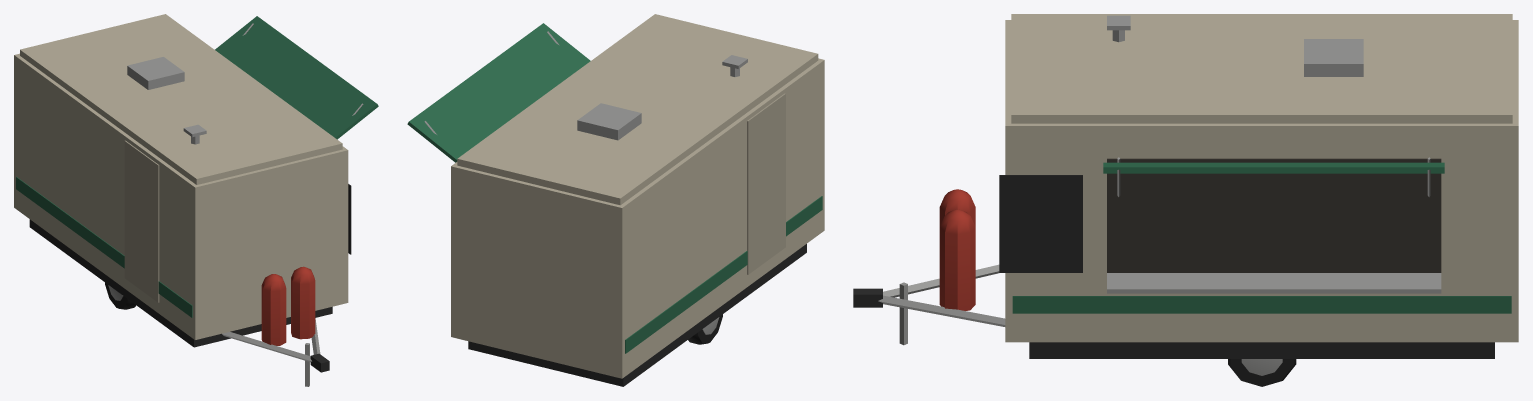
Rendered from SM_Prop_road_burgervan_1_LOD1.glb.
3 renders of one model, left to right at view 1: azimuth 30°, elevation 25°; view 2: azimuth 150°, elevation 25°; view 3: azimuth 270°, elevation 25°, orthographic. The views are drawn at different scales.
Parts seen in each view (by area): view 1: SM_Prop_road_burgervan_1_LOD1; view 2: SM_Prop_road_burgervan_1_LOD1; view 3: SM_Prop_road_burgervan_1_LOD1.
Part boxes in pixels (box(x1,y1,x2,y2)): SM_Prop_road_burgervan_1_LOD1: box(14, 14, 378, 386); SM_Prop_road_burgervan_1_LOD1: box(407, 14, 824, 386); SM_Prop_road_burgervan_1_LOD1: box(853, 14, 1518, 386).
Size of the model in its own units: 3.01 by 2.75 by 5.58.
